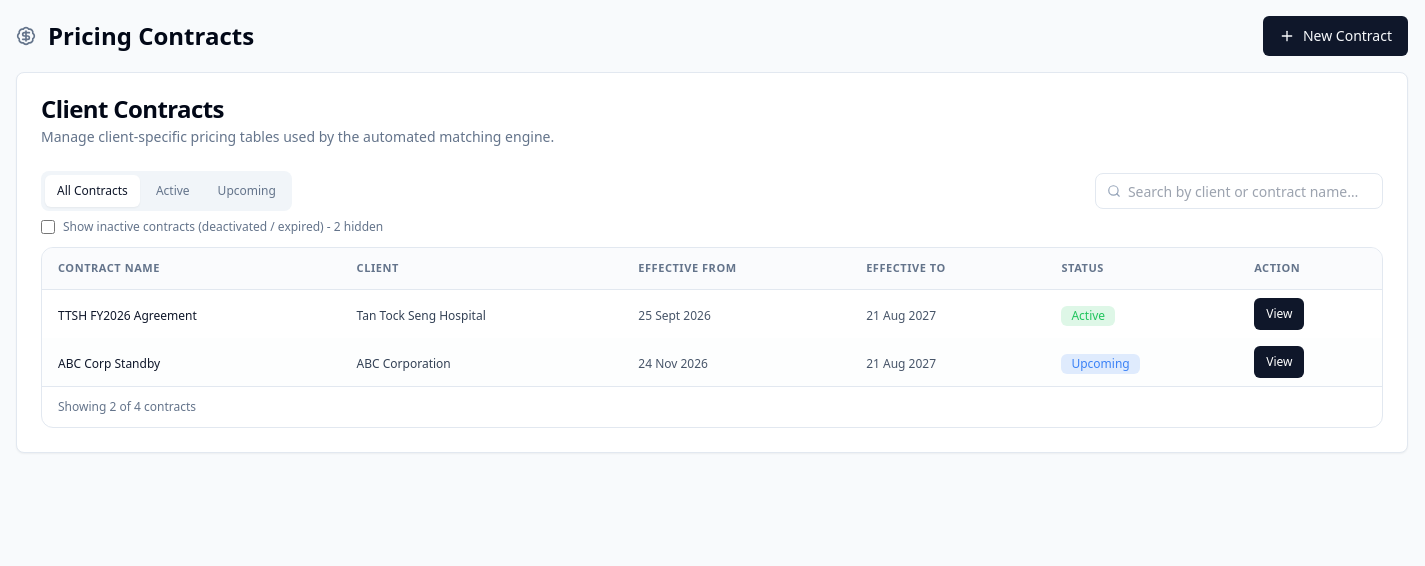
Test: PricingContractPage - inactive visibility › hiding inactive contracts while viewing Expired falls back to All Contracts
Expected: the text "TTSH FY2026 Agreement" is shown, [58,306,197,324]
Click the checkbox labelled "Show inactive contracts (deactivated / expired) - 2 hidden": (48, 227) [41,220,55,234]
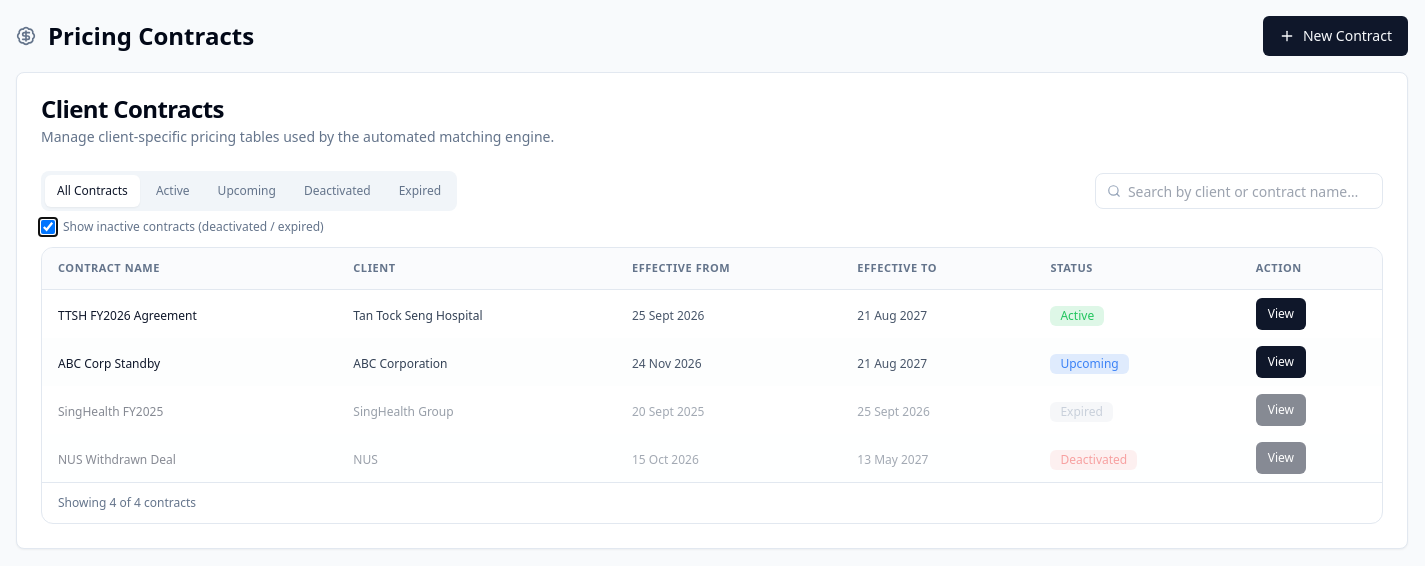
Click the button "Expired": (420, 191) [387,175,453,207]
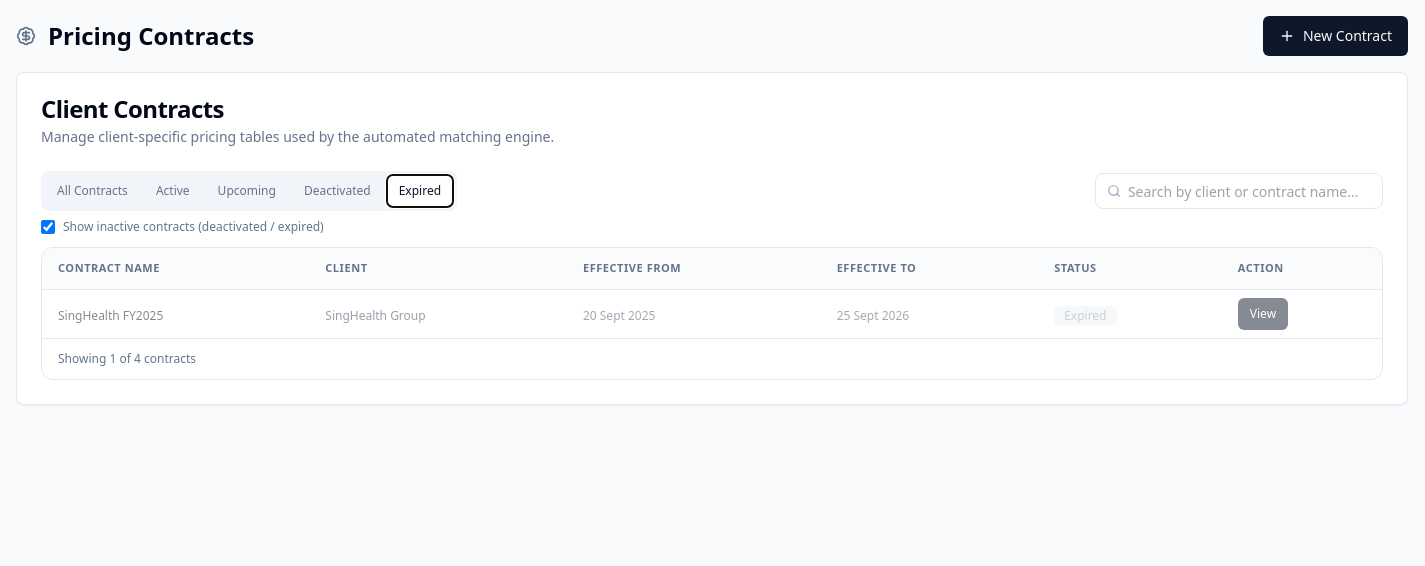
Result: the text "SingHealth FY2025" is shown at [58,306,163,324]
Click the checkbox labelled "Show inactive contracts (deactivated / expired)": (48, 227) [41,220,55,234]
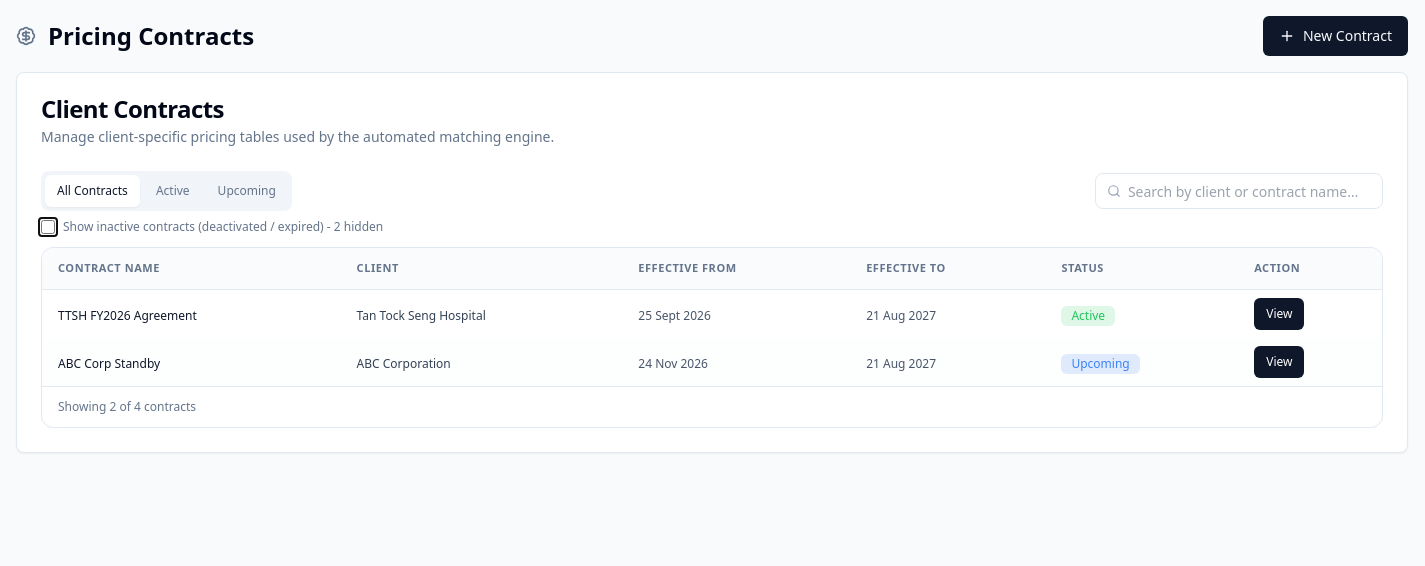
Result: the text "TTSH FY2026 Agreement" is shown at [58,306,197,324]
Result: the text "SingHealth FY2025" is gone
